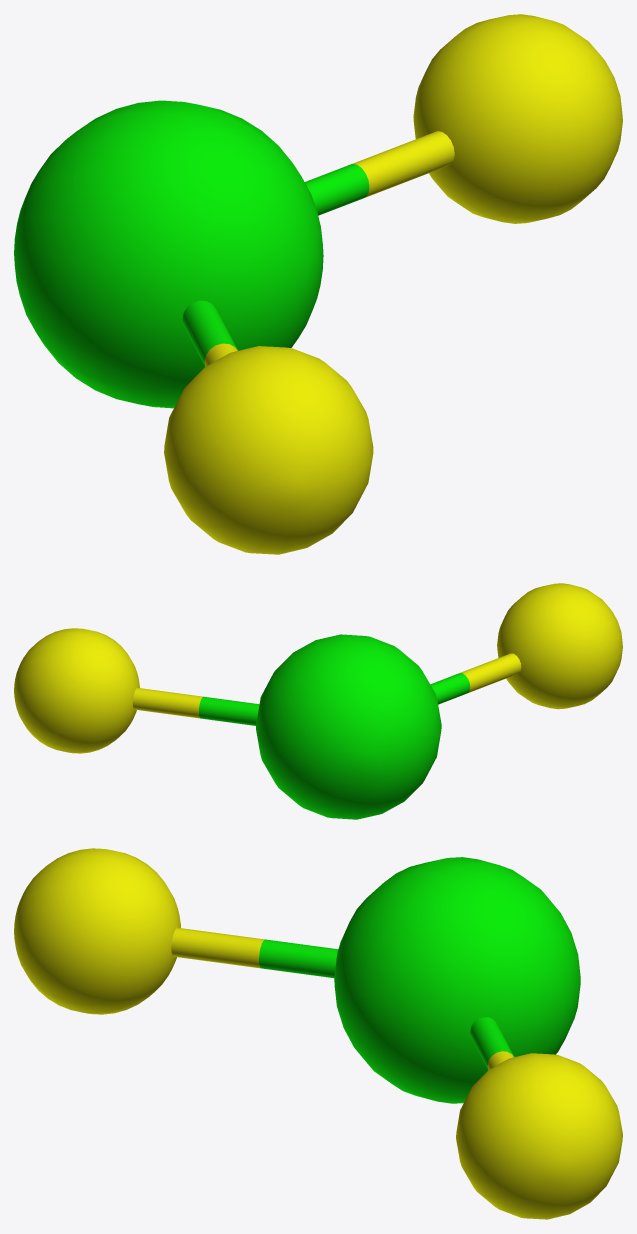
Rendered from CaH2.fbx.
3 renders of one model, top to bottom at view 1: azimuth 30°, elevation 25°; view 2: azimuth 150°, elevation 25°; view 3: azimuth 270°, elevation 25°, orthographic. The views are drawn at different scales.
Parts seen in each view (by area): view 1: CaH2; view 2: CaH2; view 3: CaH2.
Boxes of the visible parts, <box> form: CaH2: <box>14,14,622,554</box>; CaH2: <box>14,583,622,819</box>; CaH2: <box>14,848,622,1219</box>.
Bounding box in the file's own units: 7.2 × 2.73 × 6.73.
